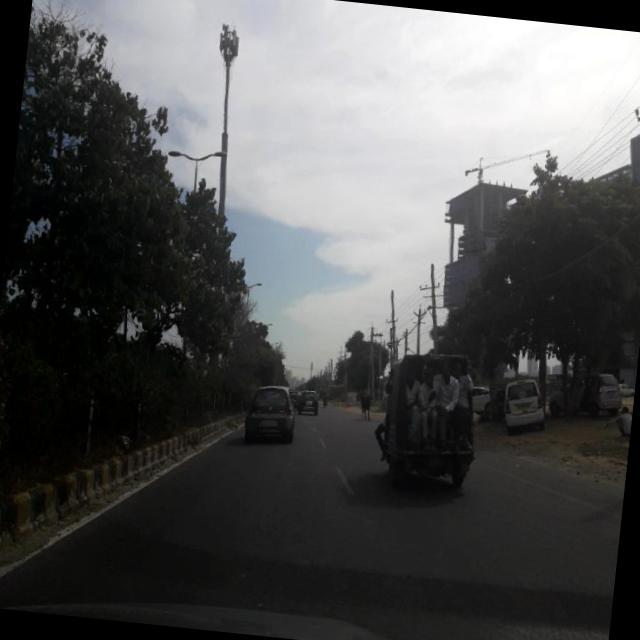crack: (112, 429, 611, 633)
